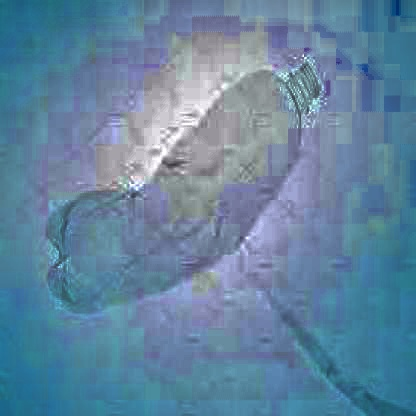pbottle: (35, 50, 324, 316)
